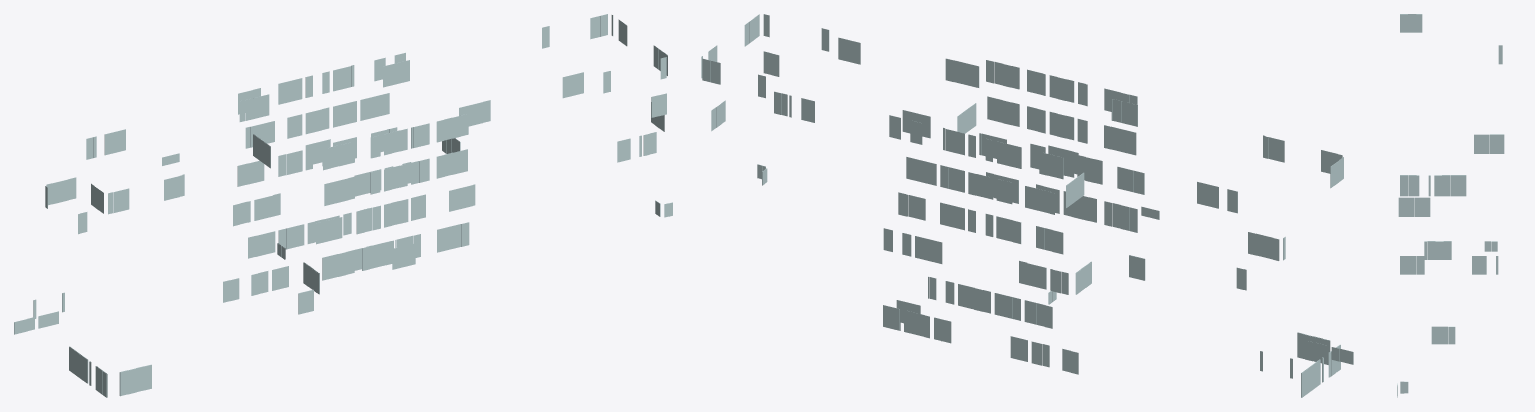
Rendered from glass.glb.
3 views of the same model, side by side, from view 1: azimuth 30°, elevation 25°; view 2: azimuth 150°, elevation 25°; view 3: azimuth 270°, elevation 25° (orthographic). The views are drawn at different scales.
Visible parts, largest first — view 1: Glass; view 2: Glass; view 3: Glass.
Boxes of the visible parts, <box> form: Glass: <box>14,14,672,397</box>; Glass: <box>701,14,1353,397</box>; Glass: <box>1397,14,1504,397</box>.
Size of the model in its own units: 227 by 71.03 by 49.09.
